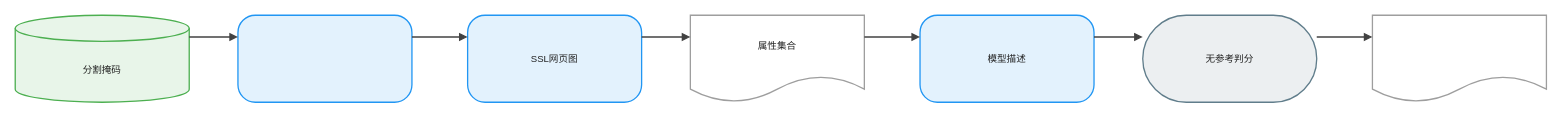
Image size: 1563x118. Some labels were removed from this diagram. Each missing label, with the centre of its shape:
VLM扩写: (x=324, y=58)
细节评分: (x=1459, y=58)
